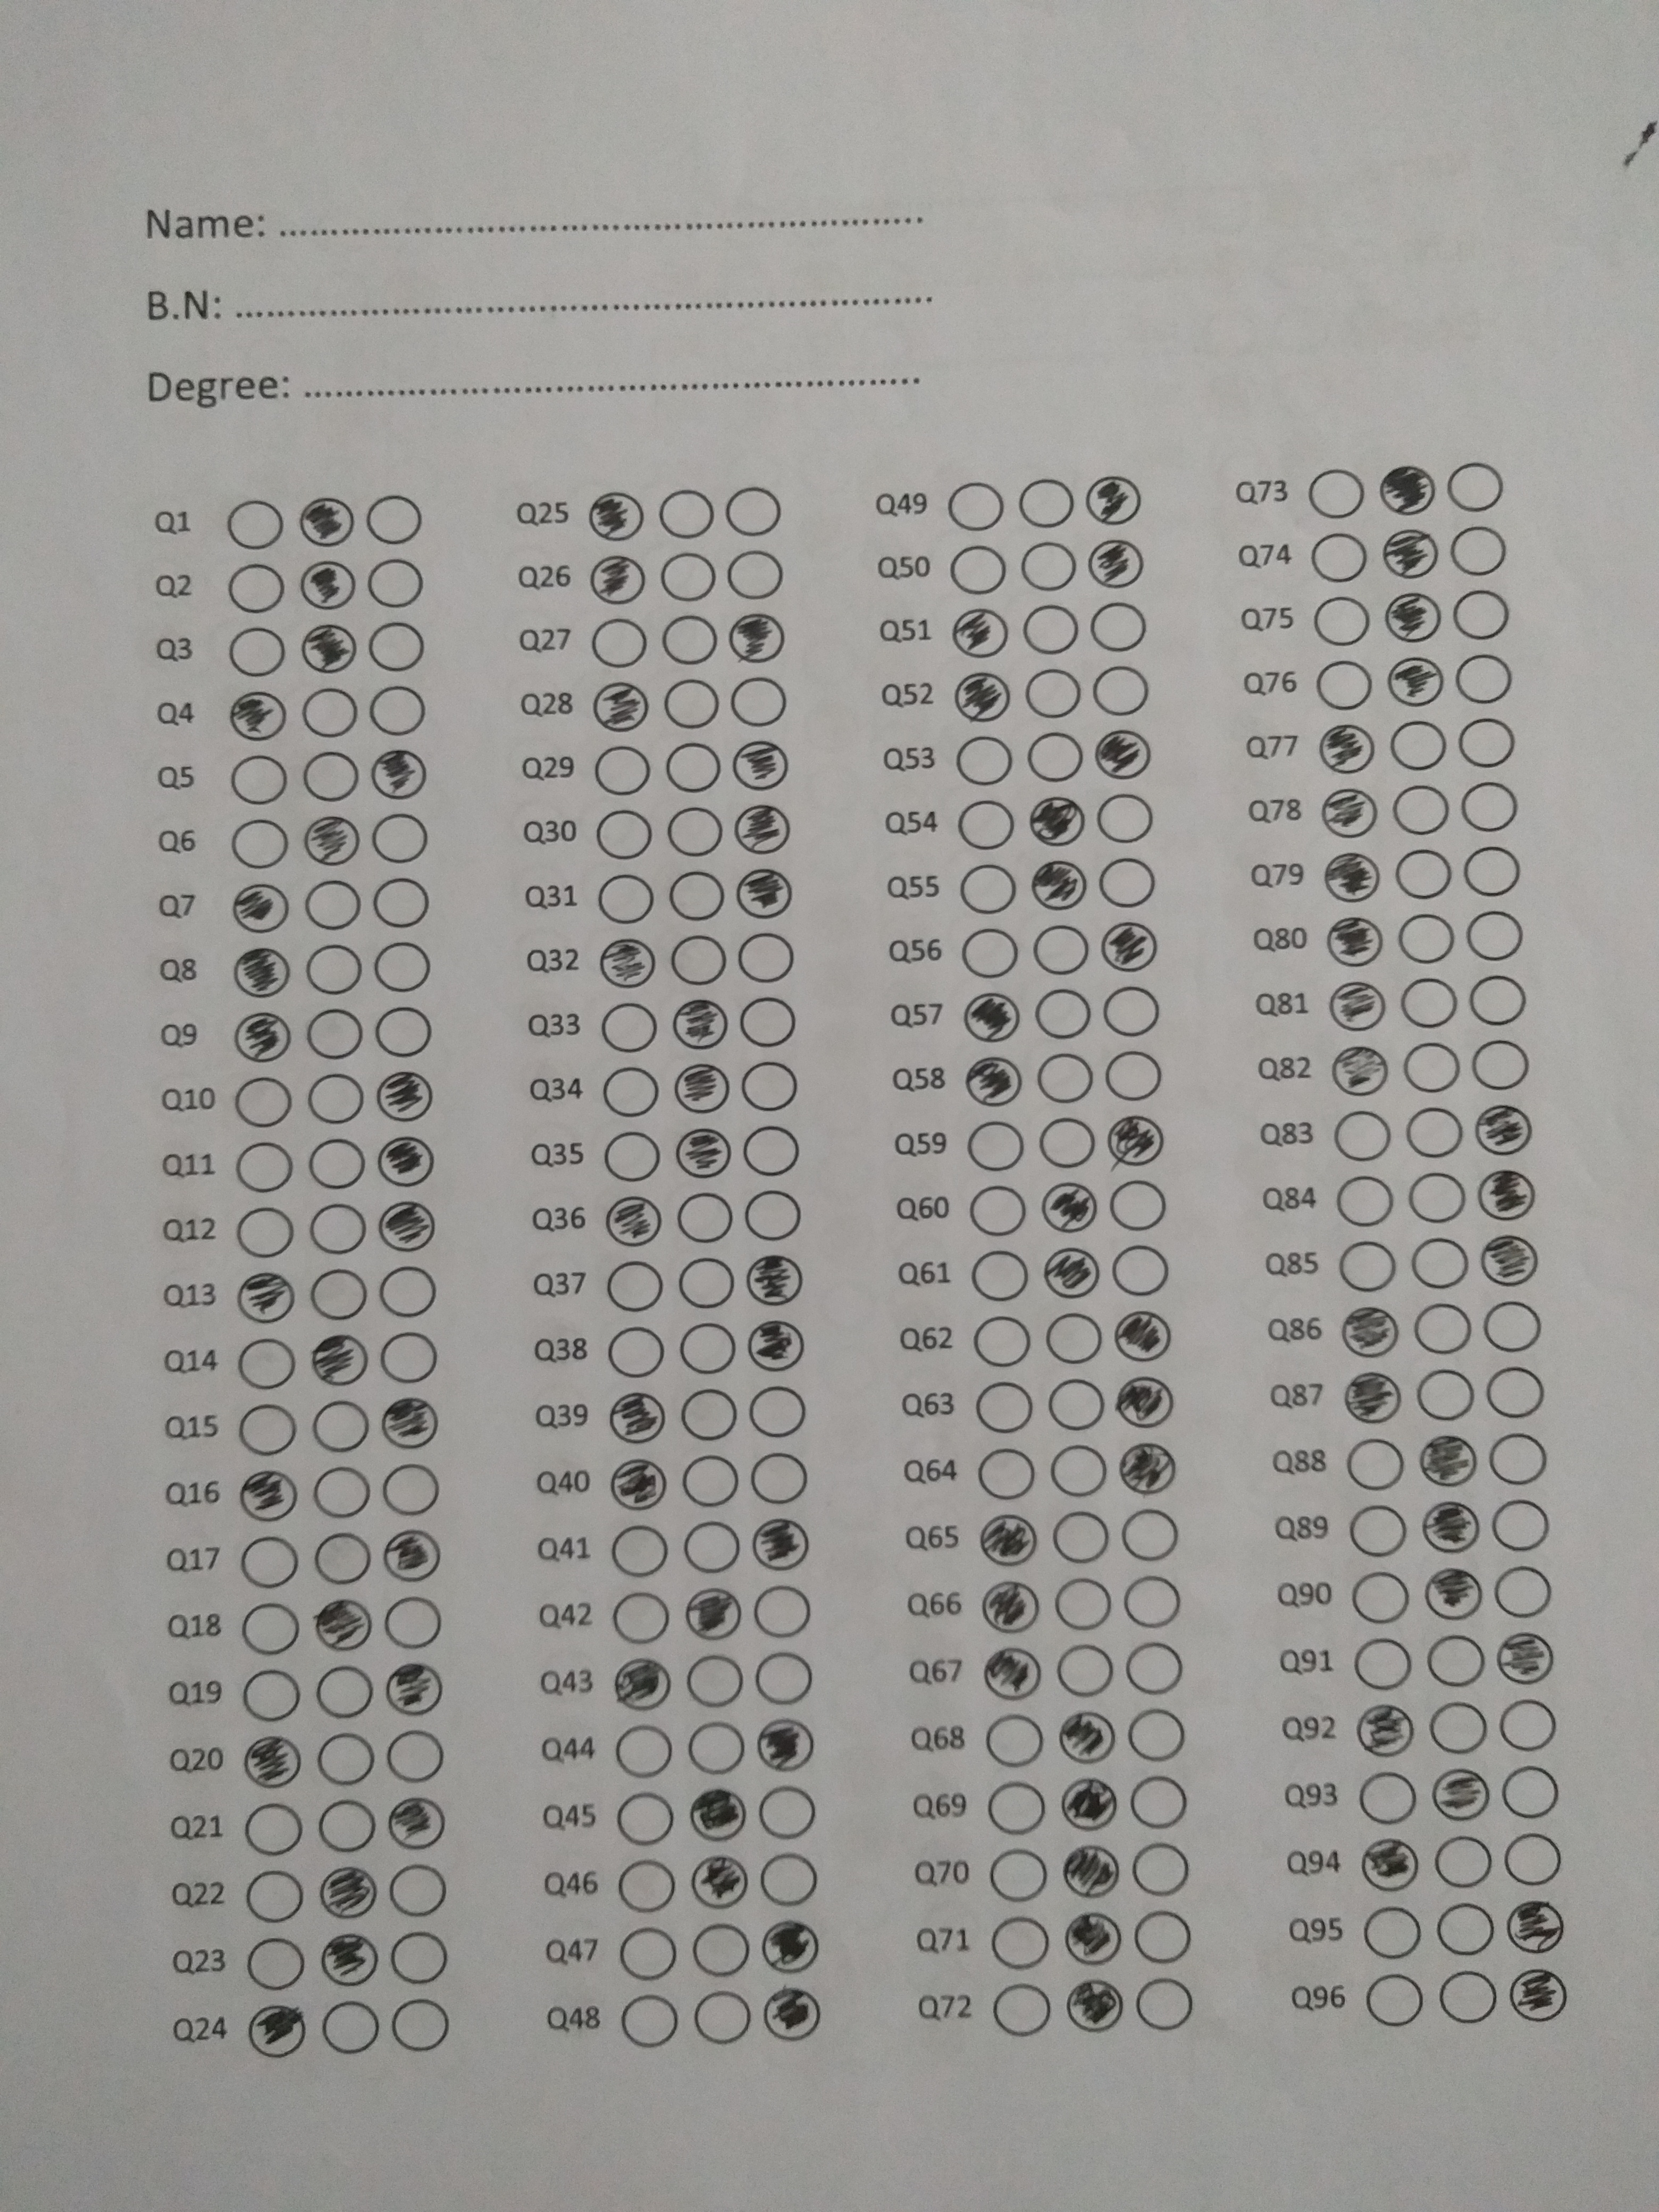not-c: (223, 489, 289, 554), (300, 745, 366, 805), (223, 620, 289, 679), (376, 1460, 443, 1519), (305, 1397, 371, 1456), (375, 1258, 441, 1317), (235, 1663, 301, 1723), (239, 1595, 305, 1655), (659, 737, 725, 796), (659, 549, 725, 608), (652, 486, 718, 545), (601, 1258, 667, 1317), (599, 1129, 666, 1188), (666, 930, 732, 989), (753, 1651, 819, 1710), (683, 1649, 749, 1709), (678, 1517, 744, 1576), (678, 1449, 744, 1508), (692, 1987, 758, 2047), (1136, 1977, 1202, 2036), (955, 859, 1021, 918), (1091, 789, 1157, 848), (951, 794, 1018, 853), (1023, 726, 1089, 786), (1087, 662, 1154, 721), (1018, 597, 1084, 657), (1014, 477, 1080, 536), (972, 1313, 1039, 1372), (1107, 1174, 1173, 1233), (1049, 1641, 1115, 1700), (1117, 1505, 1183, 1564), (1046, 1376, 1112, 1435), (1127, 1771, 1194, 1831), (983, 1778, 1049, 1838), (1389, 780, 1455, 840), (1450, 587, 1516, 646), (1335, 1235, 1401, 1294), (1331, 1170, 1398, 1230), (1401, 1038, 1467, 1097), (1394, 907, 1460, 967), (1432, 1898, 1499, 1958), (1358, 1768, 1424, 1827), (1425, 1696, 1492, 1756), (1424, 1629, 1490, 1688), (1354, 1634, 1420, 1693), (1492, 1562, 1558, 1622), (1351, 1568, 1417, 1627), (1488, 1494, 1554, 1554), (1500, 1831, 1567, 1890), (361, 489, 425, 549), (389, 1996, 453, 2055), (303, 939, 368, 998), (368, 873, 432, 932), (300, 874, 364, 934), (368, 806, 432, 866), (230, 815, 295, 874), (228, 749, 293, 808), (368, 681, 432, 740), (298, 683, 362, 742), (364, 618, 429, 678), (364, 556, 429, 615), (237, 1531, 301, 1590), (308, 1460, 373, 1519), (237, 1400, 301, 1460), (378, 1327, 443, 1386), (305, 1200, 369, 1259), (307, 1132, 371, 1191), (234, 1134, 298, 1193), (305, 1066, 369, 1125), (371, 1003, 436, 1062), (303, 1005, 368, 1064), (387, 1926, 451, 1986), (246, 1930, 310, 1989), (385, 1862, 450, 1921), (240, 1865, 305, 1925), (317, 1797, 382, 1857), (239, 1801, 303, 1860), (382, 1726, 446, 1785), (314, 1728, 378, 1787), (312, 1663, 376, 1723), (380, 1590, 444, 1649), (310, 1531, 375, 1590), (321, 1998, 385, 2057), (756, 1853, 821, 1912), (662, 801, 727, 860), (592, 738, 657, 798), (727, 672, 791, 732), (659, 672, 723, 732), (660, 611, 725, 671), (591, 611, 655, 671), (721, 545, 786, 604), (725, 482, 789, 542), (606, 1324, 671, 1383), (673, 1256, 737, 1315), (739, 1120, 803, 1179), (735, 1057, 800, 1116), (601, 1061, 666, 1120), (734, 995, 798, 1054), (598, 998, 662, 1057), (735, 928, 800, 988), (664, 866, 728, 925), (594, 871, 659, 930), (612, 1858, 676, 1918), (612, 1789, 676, 1848), (612, 1721, 676, 1780), (751, 1581, 816, 1641), (610, 1588, 674, 1648), (746, 1381, 810, 1440), (674, 1388, 739, 1447), (680, 1320, 744, 1379), (690, 1921, 755, 1980), (617, 1923, 681, 1982), (945, 477, 1009, 536), (958, 927, 1023, 986), (1094, 853, 1159, 913), (951, 730, 1016, 789), (1019, 662, 1084, 721), (1087, 597, 1152, 657), (1016, 536, 1080, 596), (946, 543, 1011, 603), (1040, 1306, 1105, 1366), (1108, 1242, 1173, 1301), (969, 1240, 1033, 1299), (967, 1177, 1032, 1237), (1032, 1111, 1096, 1170), (964, 1115, 1028, 1174), (1103, 1047, 1168, 1106), (1032, 1049, 1096, 1108), (1100, 981, 1164, 1040), (1032, 986, 1096, 1045), (1121, 1637, 1185, 1696), (1121, 1571, 1185, 1630), (1049, 1575, 1114, 1634), (1049, 1507, 1114, 1566), (1046, 1442, 1110, 1501), (972, 1447, 1037, 1507), (971, 1378, 1035, 1437), (1127, 1838, 1192, 1897), (1133, 1905, 1197, 1965), (985, 1912, 1049, 1972), (983, 1844, 1047, 1904), (1124, 1707, 1188, 1766), (990, 1982, 1054, 2041), (1460, 843, 1525, 902), (1392, 846, 1457, 906), (1459, 779, 1523, 838), (1457, 714, 1521, 773), (1387, 718, 1452, 777), (1450, 651, 1514, 711), (1310, 655, 1375, 714), (1312, 596, 1377, 655), (1446, 524, 1511, 583), (1307, 529, 1371, 589), (1441, 458, 1506, 517), (1483, 1362, 1547, 1421), (1480, 1301, 1544, 1360), (1408, 1233, 1473, 1292), (1403, 1167, 1467, 1226), (1330, 1104, 1394, 1163), (1471, 1036, 1535, 1096), (1471, 974, 1535, 1033), (1398, 970, 1462, 1029), (1466, 907, 1530, 967), (1363, 1905, 1427, 1965), (1436, 1966, 1500, 2026), (1364, 1966, 1429, 2026), (1345, 1503, 1410, 1562), (1486, 1430, 1551, 1489), (1345, 1439, 1410, 1498), (1434, 1832, 1499, 1892), (223, 559, 289, 617), (591, 805, 657, 862), (1413, 1299, 1480, 1357), (369, 939, 434, 996), (235, 1331, 300, 1388), (305, 1266, 369, 1324), (234, 1204, 298, 1261), (230, 1071, 295, 1129), (673, 1191, 737, 1249), (753, 1785, 817, 1843), (687, 1723, 751, 1780), (606, 1521, 671, 1578), (749, 1451, 814, 1508), (1026, 920, 1091, 977), (983, 1709, 1047, 1766), (1499, 1761, 1563, 1818), (1303, 465, 1368, 523), (1415, 1369, 1480, 1426), (1405, 1103, 1469, 1160), (1499, 1696, 1563, 1754), (615, 1994, 681, 2050), (742, 1190, 807, 1245)
taken-c: (247, 2001, 308, 2064), (758, 1918, 821, 1979), (755, 1714, 819, 1773), (981, 1644, 1046, 1703), (242, 1731, 305, 1791), (762, 1984, 824, 2043), (1061, 1909, 1124, 1968), (978, 1510, 1040, 1569), (1478, 1231, 1540, 1291), (1354, 1702, 1417, 1761), (1431, 1764, 1493, 1824), (235, 1467, 300, 1524), (1060, 1843, 1124, 1900), (312, 1597, 373, 1656), (1060, 1773, 1119, 1834), (1112, 1306, 1173, 1366), (612, 1655, 674, 1712), (1340, 1305, 1403, 1362), (1417, 1432, 1480, 1489), (1420, 1500, 1483, 1557), (1422, 1566, 1485, 1623), (1504, 1898, 1567, 1956), (1115, 1442, 1180, 1498), (1114, 1376, 1178, 1432), (295, 496, 361, 550), (1361, 1834, 1420, 1893), (727, 610, 788, 667), (734, 866, 795, 923), (382, 1527, 443, 1585), (749, 1517, 810, 1575), (1058, 1709, 1119, 1766), (979, 1578, 1040, 1635), (671, 996, 732, 1054), (1474, 1101, 1535, 1158), (1507, 1966, 1568, 2024), (227, 688, 289, 744), (382, 1660, 444, 1716), (385, 1796, 448, 1851), (1495, 1630, 1558, 1686), (950, 604, 1009, 662), (688, 1785, 748, 1843), (683, 1585, 742, 1642), (608, 1386, 667, 1444), (1107, 1113, 1166, 1170), (1323, 848, 1382, 906), (584, 489, 645, 545), (598, 935, 659, 991), (1028, 857, 1089, 913), (235, 1268, 296, 1324), (380, 1395, 441, 1451), (319, 1932, 380, 1987), (1476, 1167, 1537, 1223), (1084, 536, 1147, 590), (1091, 726, 1154, 780), (232, 1008, 295, 1062), (375, 1134, 437, 1188), (962, 991, 1025, 1045), (1342, 1371, 1405, 1425), (310, 1331, 368, 1388), (1040, 1179, 1098, 1237), (369, 747, 429, 803), (1084, 474, 1143, 529), (1100, 920, 1159, 975), (690, 1855, 749, 1911), (748, 1318, 807, 1374), (1066, 1977, 1126, 2033), (605, 1191, 664, 1247), (1377, 462, 1436, 517), (1384, 589, 1443, 644), (296, 622, 357, 676), (744, 1254, 805, 1308), (965, 1054, 1026, 1108), (1385, 655, 1446, 709), (1319, 787, 1380, 841), (319, 1865, 376, 1921), (610, 1456, 667, 1512), (1028, 794, 1087, 848), (378, 1200, 437, 1254), (1044, 1245, 1103, 1299), (674, 1125, 734, 1179), (1317, 723, 1377, 777), (1326, 916, 1385, 970), (1328, 981, 1387, 1035), (1331, 1043, 1391, 1097), (230, 881, 291, 934), (232, 946, 293, 998), (730, 740, 791, 792), (951, 672, 1012, 725), (375, 1071, 436, 1123), (1382, 528, 1443, 580), (303, 815, 361, 869), (732, 803, 791, 855), (587, 554, 648, 604), (592, 681, 650, 733), (674, 1062, 732, 1115), (298, 559, 357, 610)
